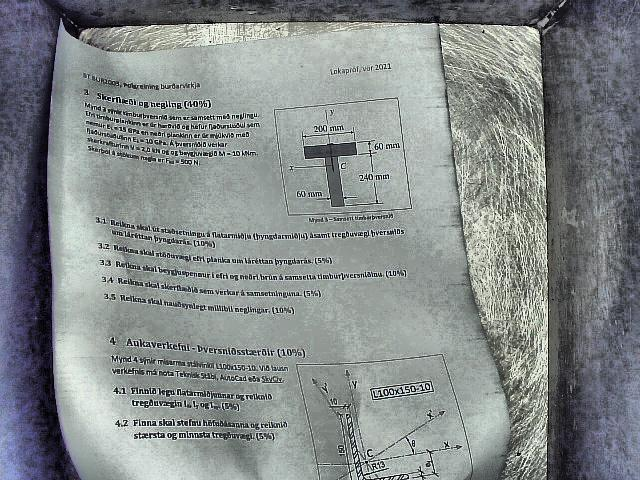Paper: (24, 13, 512, 480)
